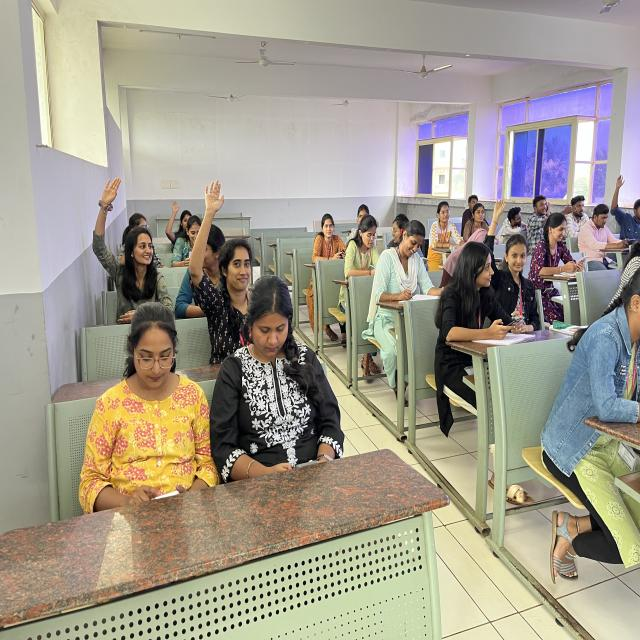Hand Rising: (184, 178, 258, 355), (86, 168, 161, 319), (482, 195, 534, 327)
Sleeping: (497, 204, 530, 240)
Using Phone: (80, 292, 222, 504), (212, 265, 348, 481), (429, 233, 527, 385), (528, 211, 588, 279), (577, 203, 638, 255), (311, 212, 347, 265)
Writing: (370, 218, 450, 321), (344, 215, 386, 283)
